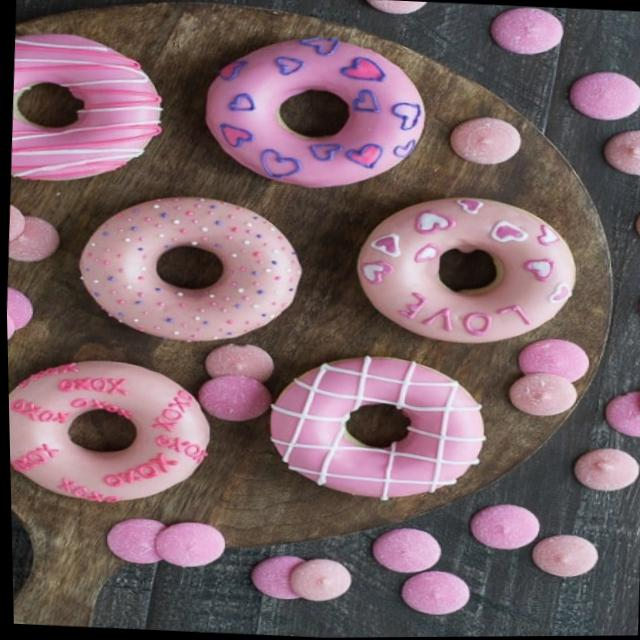donut: (69, 184, 303, 347), (350, 188, 583, 351), (198, 31, 429, 194), (263, 348, 486, 508), (6, 353, 214, 513), (7, 30, 167, 191)
